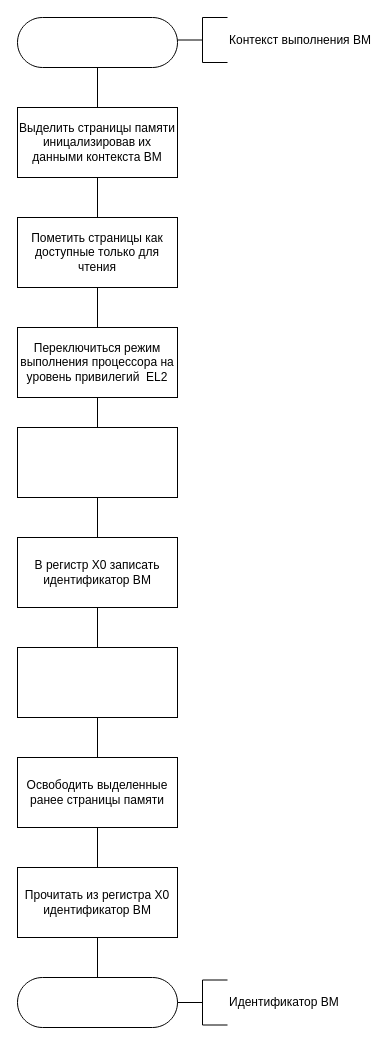
Some shapes in this 389 by 1045 pixel diagram are drawn without their labels. Each missing label, with the centre of its shape:
"Конец" goes at point 97,1002.
"Начало" goes at point 97,42.
"Переключить режим выполнения процессора на уровень привилегий EL1" goes at point 97,682.
"Скопировать данные со страниц памяти в заранее зарезервированную область памяти" goes at point 97,462.
